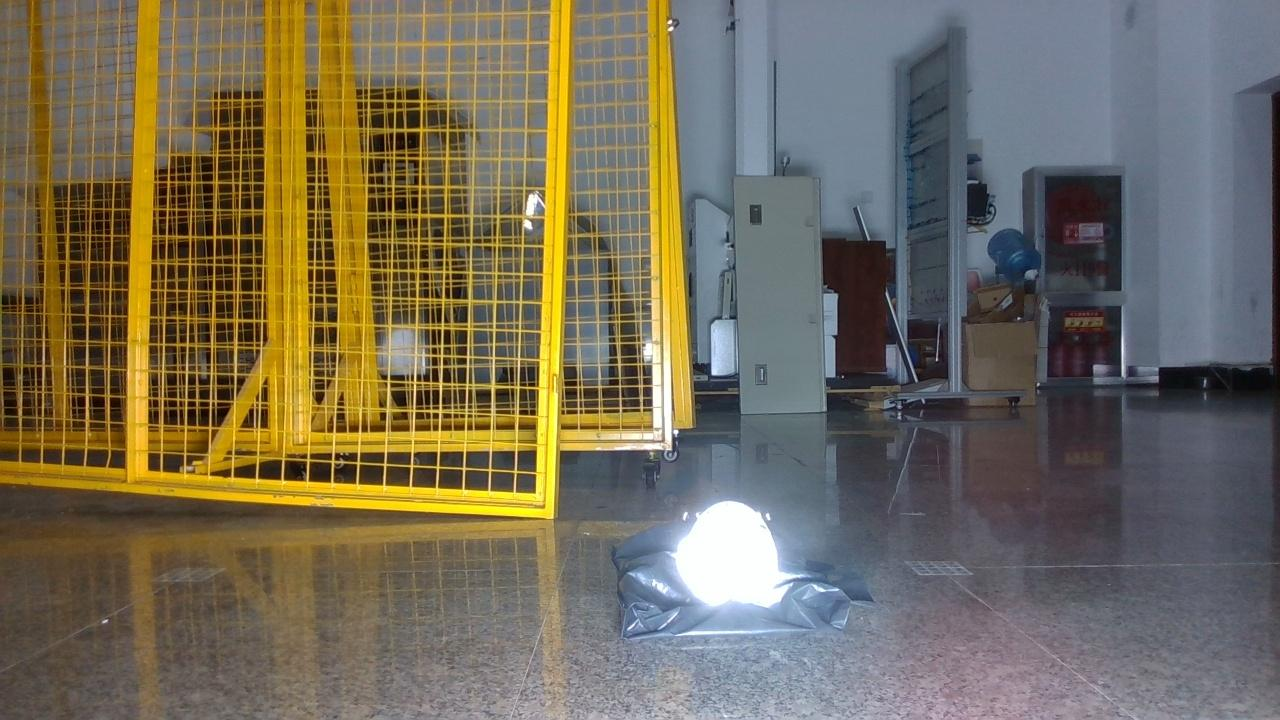package: (612, 500, 870, 640)
